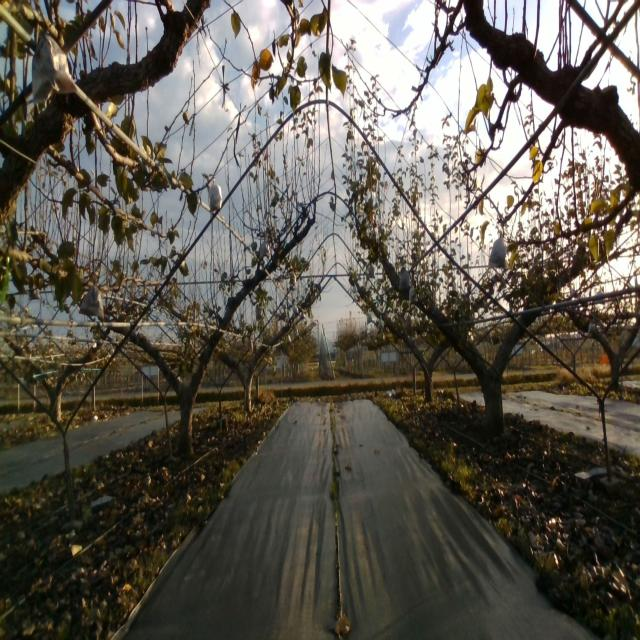pearbags: (31, 29, 78, 104), (488, 231, 507, 269), (208, 178, 223, 212), (258, 236, 272, 260), (399, 267, 409, 292)
